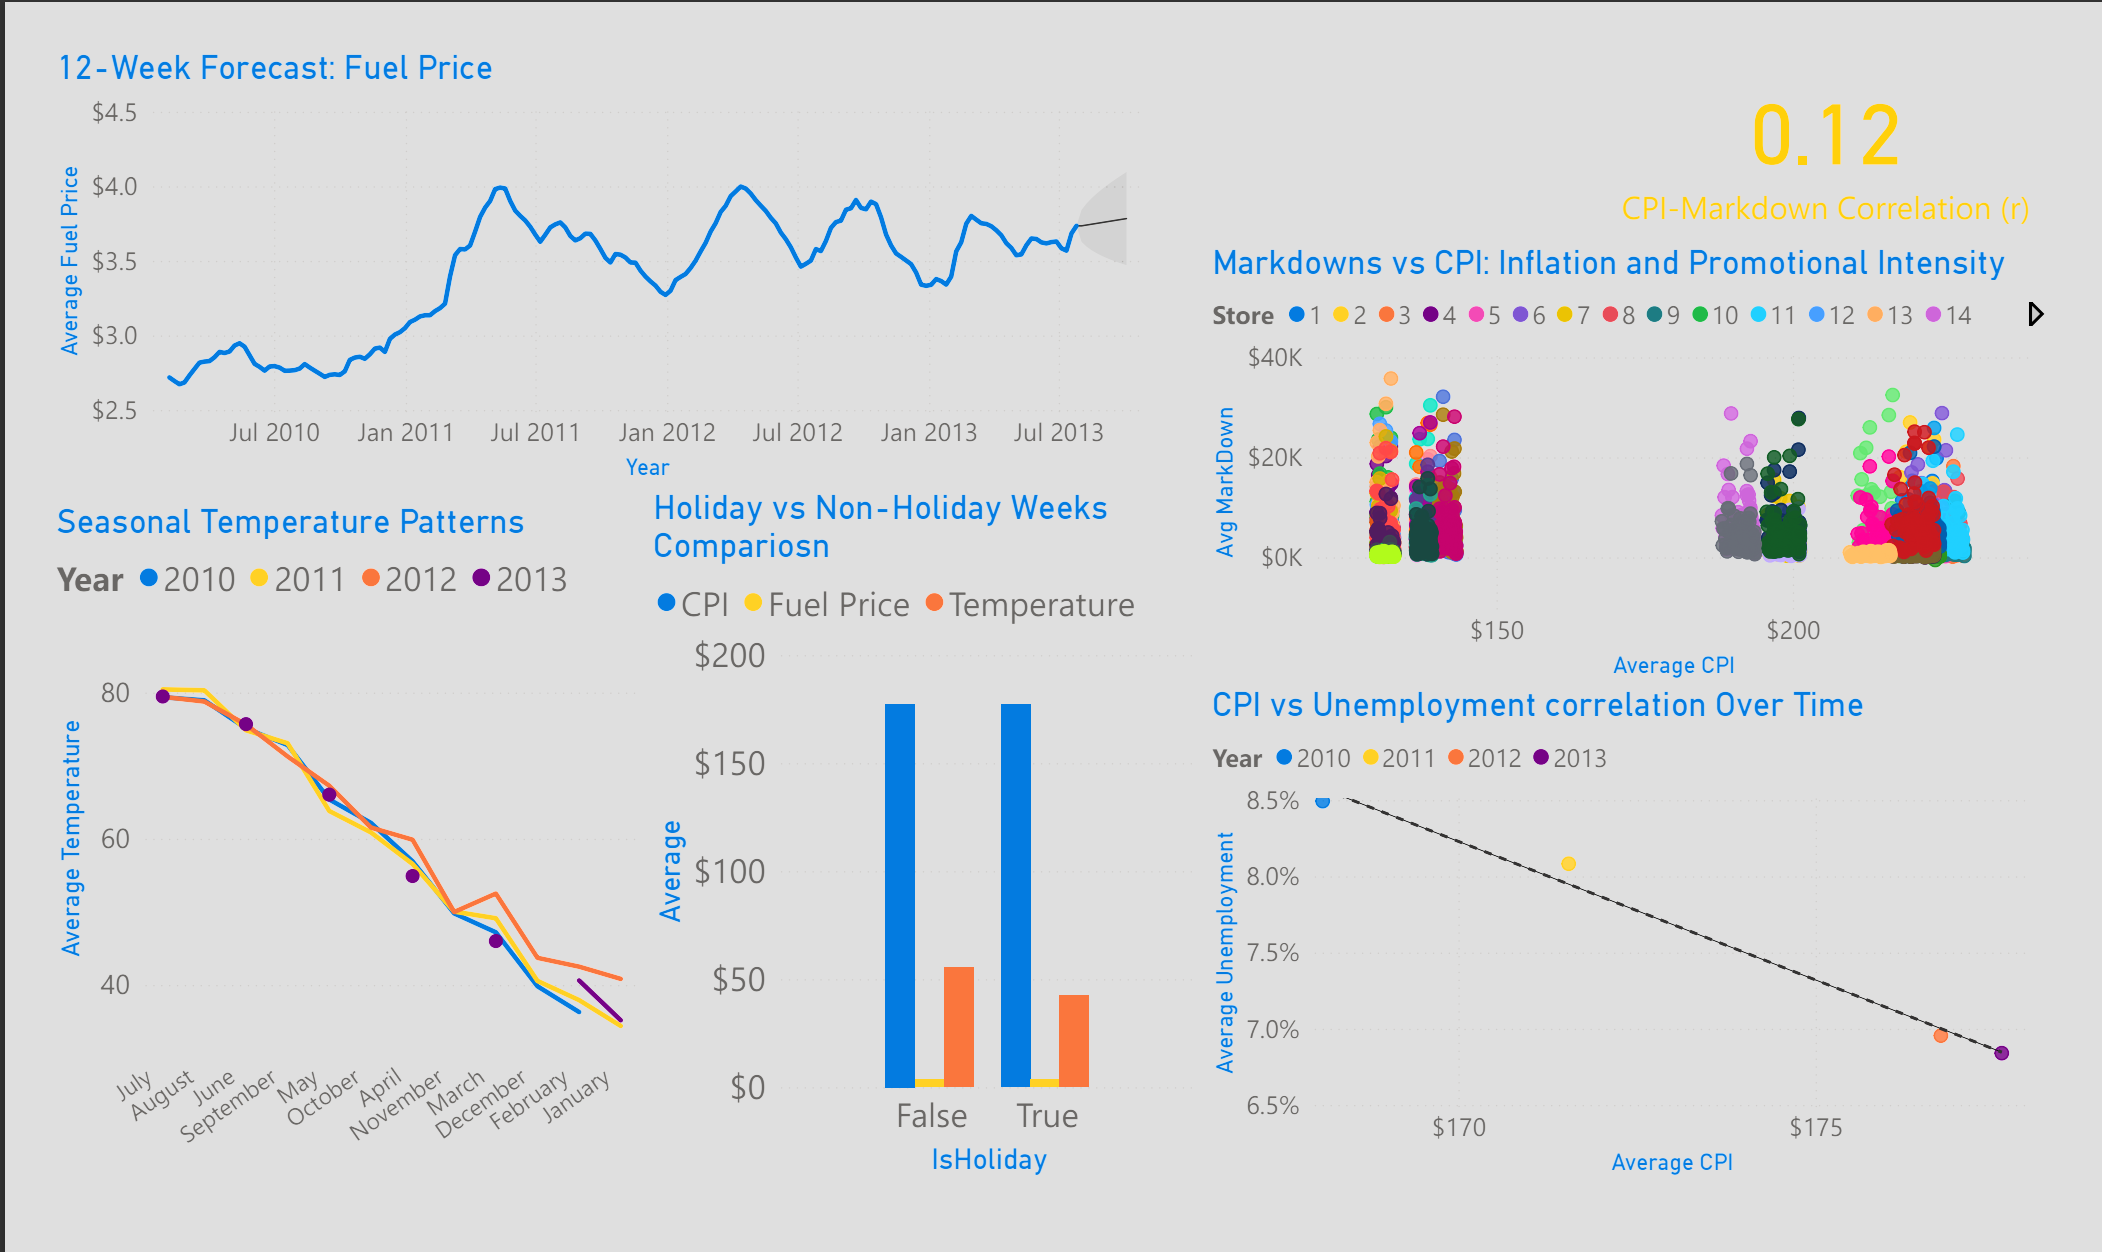

Layout of this report page (visuals, bound fields, positions):
{"tool":"powerbi","page":{"name":"Trends & Correlation","canvas":[1280,720],"ordinal":2},"visuals":[{"type":"lineChart","title":"12-Week Forecast: Fuel Price","fields":{"Y":["Avg(Features.Fuel_Price)"],"Category":["DateTable.Date.Variation.Date Hierarchy.Year","DateTable.Date.Variation.Date Hierarchy.Quarter","DateTable.Date.Variation.Date Hierarchy.Month","DateTable.Date.Variation.Date Hierarchy.Day"]},"box":[0,0,717.9,279.7],"z":0},{"type":"lineChart","title":"Seasonal Temperature Patterns","fields":{"Category":["DateTable.Month"],"Y":["Avg(Features.Temperature)"],"Series":["DateTable.Year"]},"box":[0,288,378.4,432.7],"z":1000},{"type":"scatterChart","title":"CPI vs Unemployment correlation Over Time","fields":{"X":["Avg(Features.CPI)"],"Y":["Avg(Features.Unemployment)"],"Series":["DateTable.Year"]},"box":[733.2,404.9,546.8,315.8],"z":2000},{"type":"clusteredColumnChart","title":"Holiday vs Non-Holiday Weeks Compariosn","fields":{"Category":["Features.IsHoliday"],"Y":["Avg(Features.CPI)","Avg(Features.Fuel_Price)","Avg(Features.Temperature)"]},"box":[378.1,279.7,355.6,440.9],"z":3000},{"type":"scatterChart","title":"Markdowns vs CPI: Inflation and Promotional Intensity","fields":{"X":["Features.CPI"],"Y":["Features.Avg MarkDown"],"Series":["Features.Store"]},"box":[733.2,123.8,546.8,281],"z":4000},{"type":"card","fields":{"Values":["Features.Corr CPI_MarkDown"]},"box":[976.7,0,303.3,123.8],"z":5000}]}

Visuals, with their boxes on the page's 1280x720 design canvas (x1, y1, x2, y2). These are canvas units, not pixel positions in the 2102x1252 screenshot, which may show the page scaled, cropped or inside an application window:
"12-Week Forecast: Fuel Price" lineChart: rect(0, 0, 718, 280)
"Seasonal Temperature Patterns" lineChart: rect(0, 288, 378, 721)
"CPI vs Unemployment correlation Over Time" scatterChart: rect(733, 405, 1280, 721)
"Holiday vs Non-Holiday Weeks Compariosn" clusteredColumnChart: rect(378, 280, 734, 721)
"Markdowns vs CPI: Inflation and Promotional Intensity" scatterChart: rect(733, 124, 1280, 405)
card - Features.Corr CPI_MarkDown: rect(977, 0, 1280, 124)
